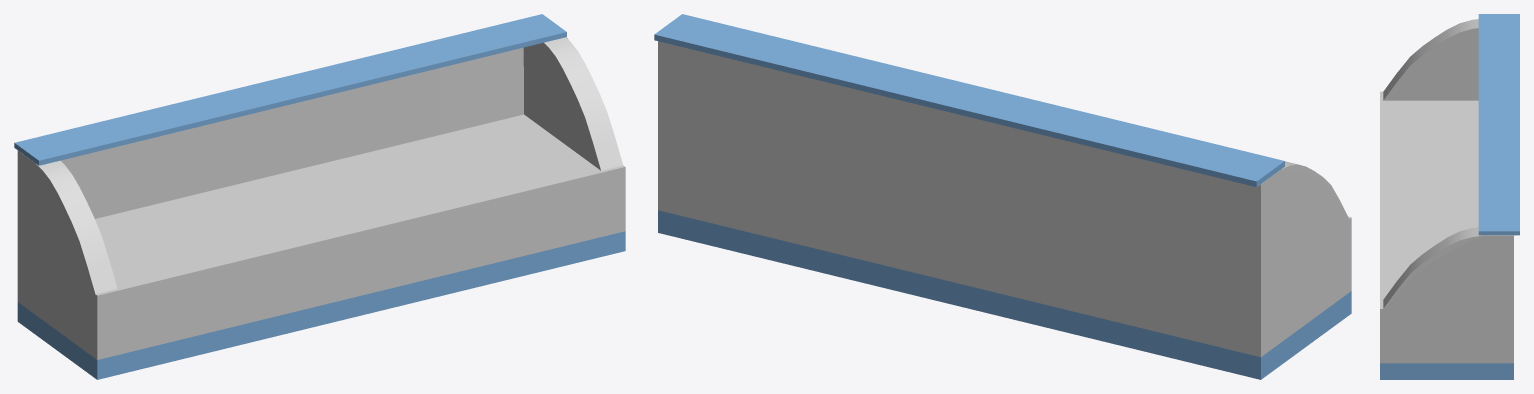
Rendered from VitrineX4.fbx.
The picture shows the model from 3 angles, left to right: view 1: azimuth 30°, elevation 25°; view 2: azimuth 150°, elevation 25°; view 3: azimuth 270°, elevation 25°; orthographic projection. The views are drawn at different scales.
Parts seen in each view (by area): view 1: Cube.006; view 2: Cube.006; view 3: Cube.006.
Boxes of the visible parts, box(x1,y1,x2,y2) form: Cube.006: box(14, 14, 625, 379); Cube.006: box(654, 14, 1351, 379); Cube.006: box(1380, 14, 1519, 379).
Size of the model in its own units: 400 by 128 by 109.
